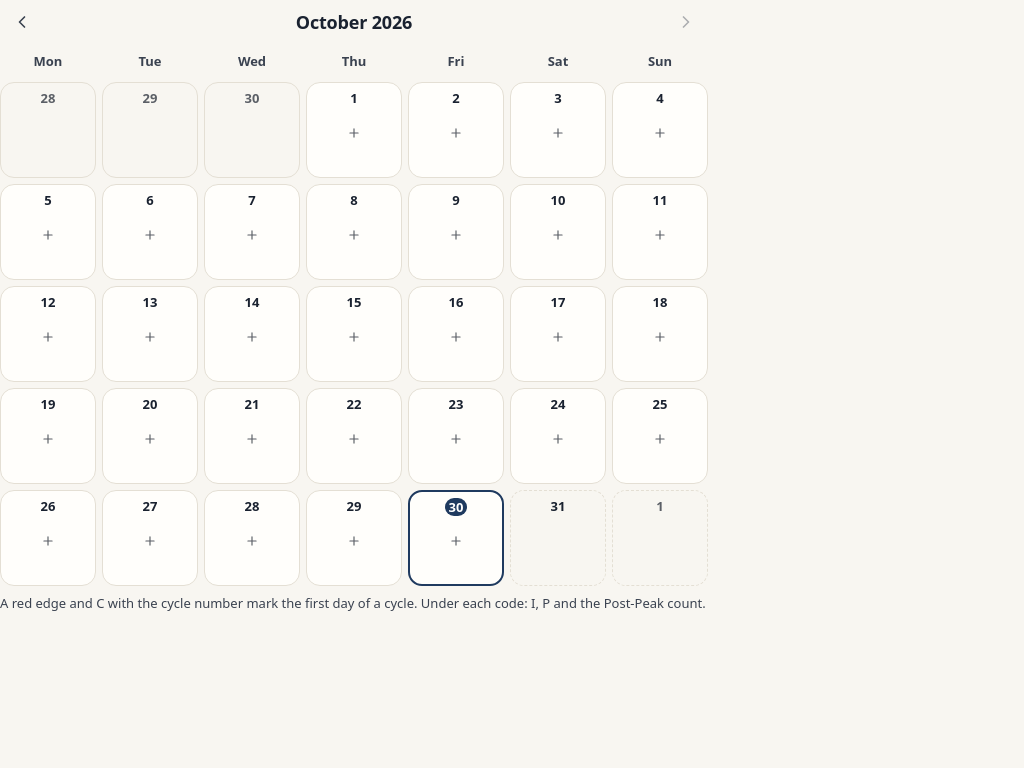
it: CalendarGrid Component › opens observation drawer with clicked date when clicking an empty calendar day
# Click on day 1
Click the 1st button "1": (354, 130) [306,82,402,178]
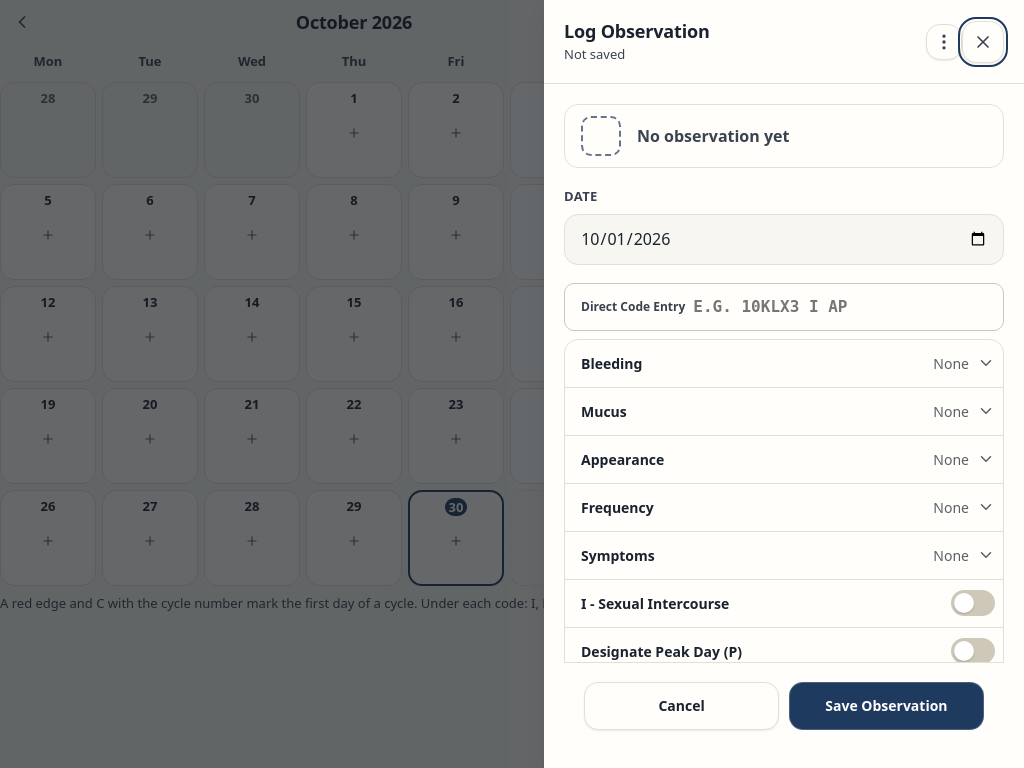
Now the date field labelled "Date" holds "2026-10-01", box [564,214,1004,265]
